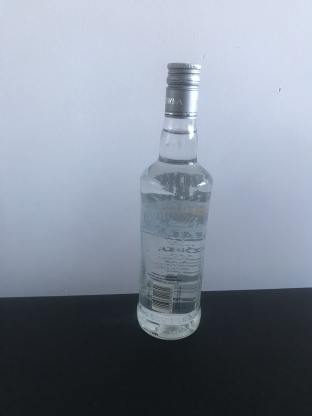nakretka: (161, 60, 202, 121)
